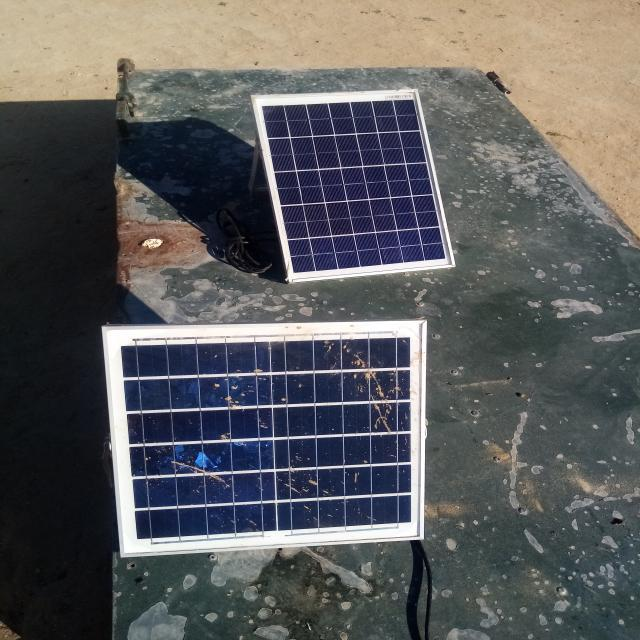Normal Solar Panel: (254, 89, 456, 280)
